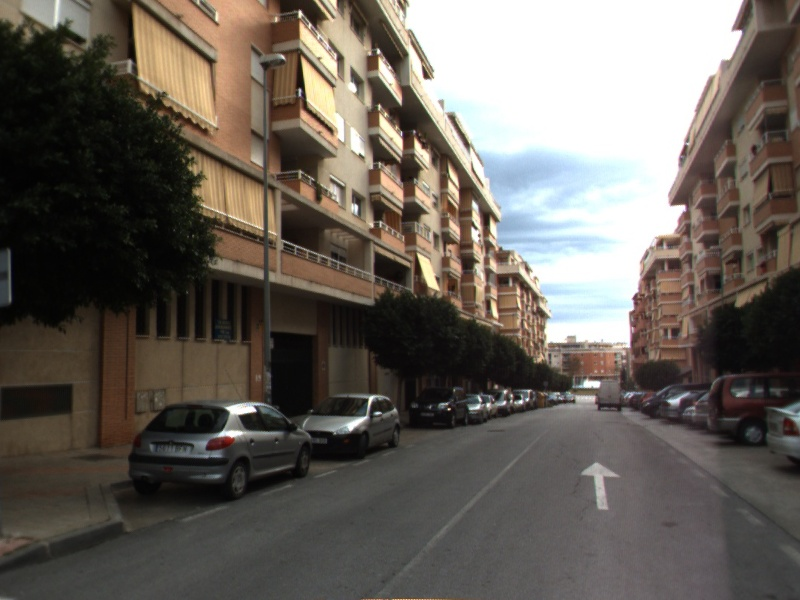STRAIGHT: (577, 460, 623, 512)
